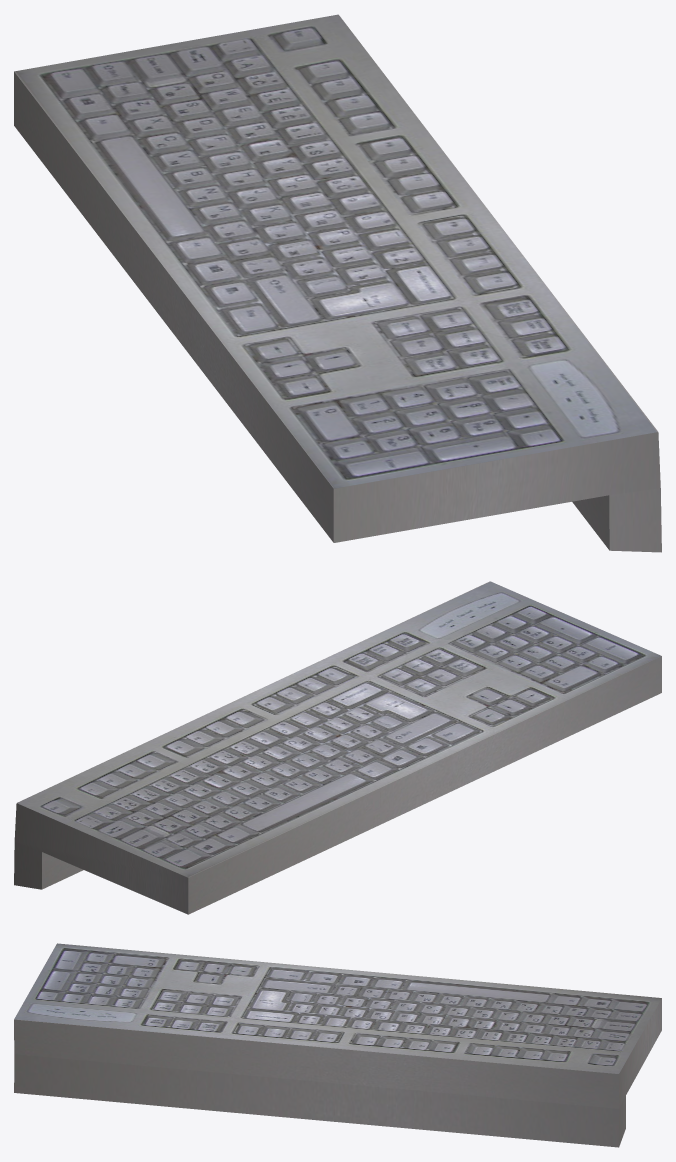
Rendered from whiteKeyboard.obj.
The picture shows the model from 3 angles, top to bottom: view 1: azimuth 30°, elevation 25°; view 2: azimuth 150°, elevation 25°; view 3: azimuth 270°, elevation 25°; orthographic projection. The views are drawn at different scales.
Parts seen in each view (by area): view 1: Box13; view 2: Box13; view 3: Box13.
Part boxes in pixels (x1,y1,x2,y2): Box13: (14,14,661,552); Box13: (14,581,661,914); Box13: (14,943,661,1147).
Bounding box in the file's own units: 16.81 × 4.06 × 32.99.
Materials: 1 (1 with a texture image).
